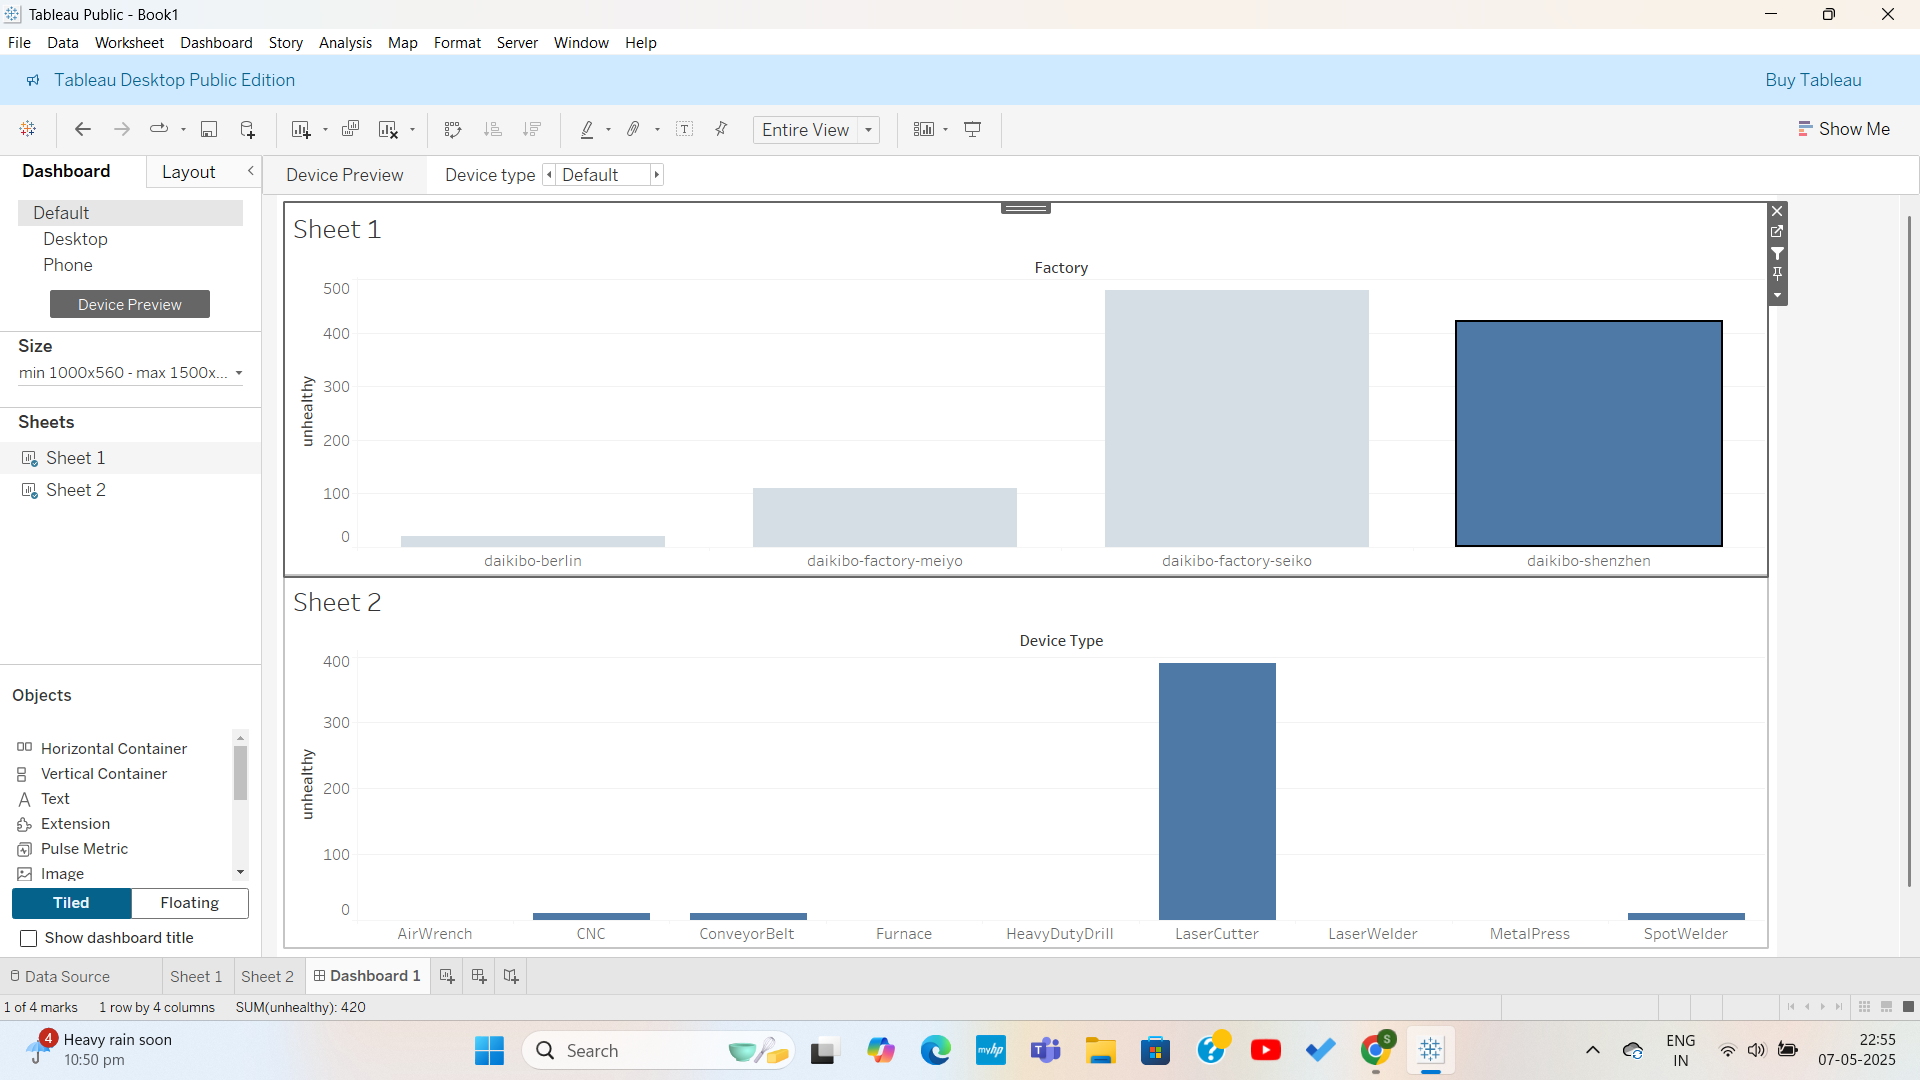

What the dashboard file says about the page in this screenshot:
{"tool":"tableau","page":{"name":"Dashboard 1","canvas":[1000,1000],"units":"permille","ordinal":0},"visuals":[{"type":"worksheet","title":"Sheet 1","mark":"Automatic","rows":["Calculation_117656547663634432"],"cols":["factory"],"box":[5.3,10.5,989.3,489.5]},{"type":"worksheet","title":"Sheet 2","mark":"Automatic","rows":["Calculation_117656547663634432"],"cols":["deviceType"],"box":[5.3,500,989.3,489.5]}]}

Visuals, with their boxes on the dashboard's canvas, which has no fixed pixel size, in thousandths of its width and height (x1, y1, x2, y2). These are canvas units, not pixel positions in the 1920x1080 screenshot, which may show the page scaled, cropped or inside an application window:
"Sheet 1" worksheet: Rect(5, 10, 995, 500)
"Sheet 2" worksheet: Rect(5, 500, 995, 990)
